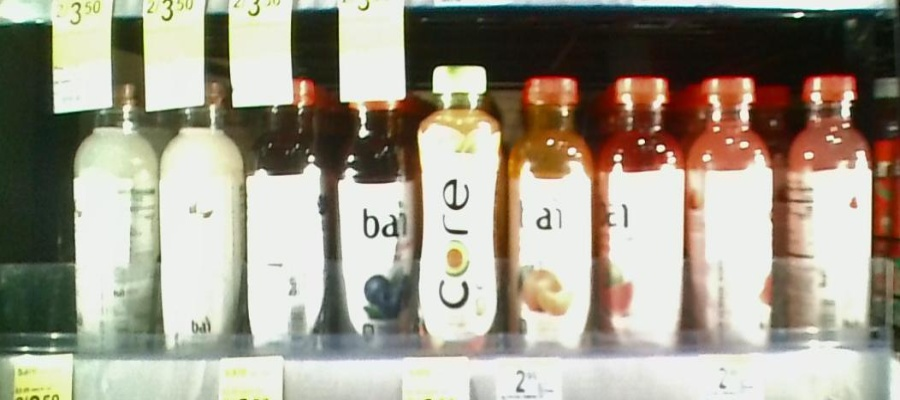bottle: (417, 48, 506, 352), (688, 77, 781, 355), (508, 63, 595, 358), (331, 49, 414, 355), (600, 67, 686, 359), (784, 72, 870, 359), (72, 76, 157, 358), (159, 70, 242, 358), (246, 74, 328, 355)
